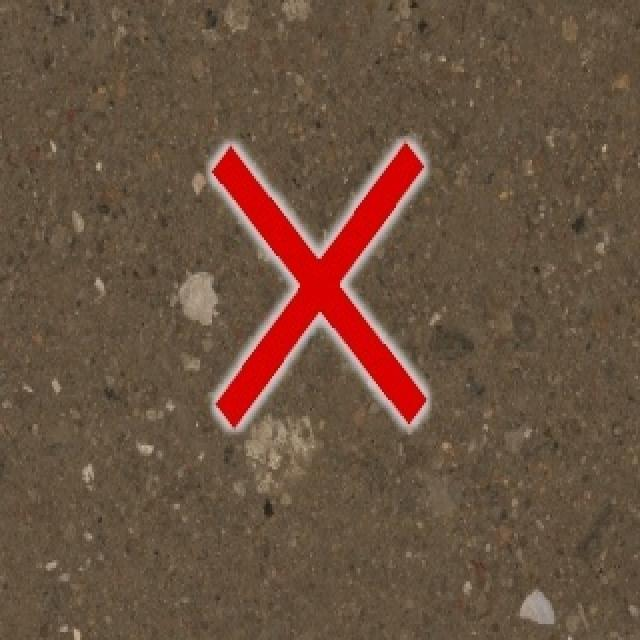x_marker: (211, 143, 425, 425)
